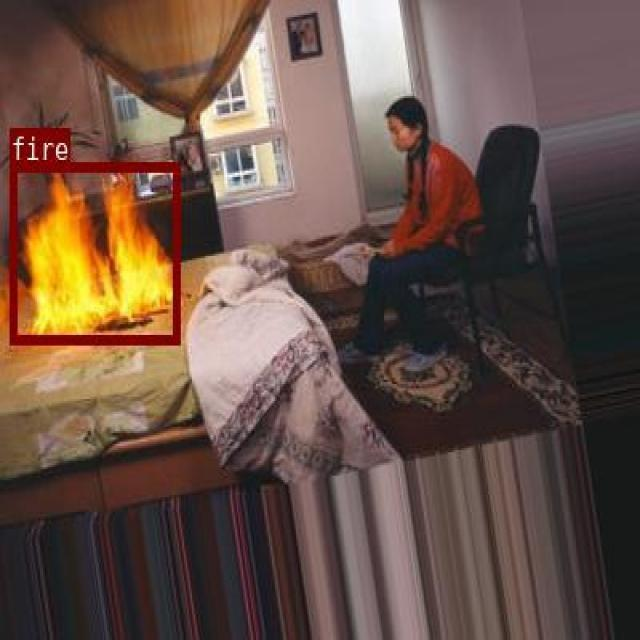fire: (10, 162, 179, 343)
